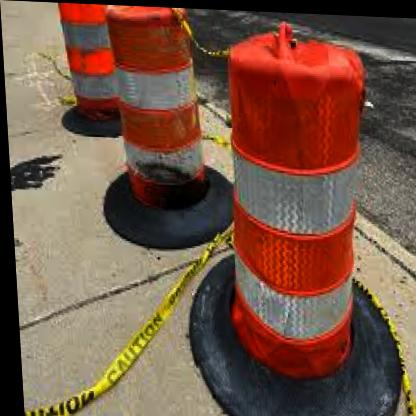obstacle: (213, 33, 404, 380)
